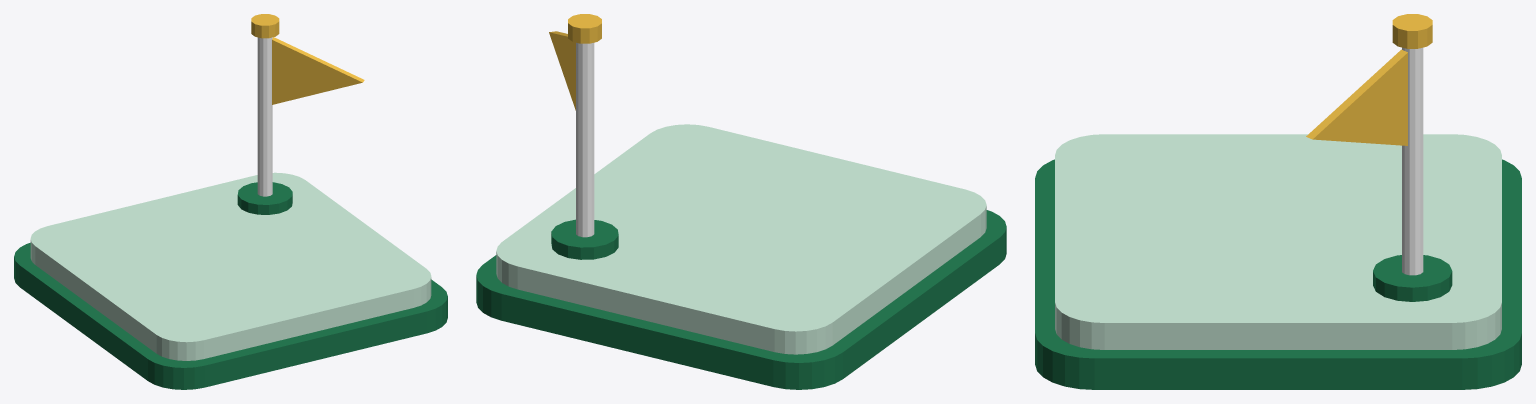
Rendered from tile_start.glb.
3 renders of one model, left to right at view 1: azimuth 30°, elevation 25°; view 2: azimuth 150°, elevation 25°; view 3: azimuth 270°, elevation 25°, orthographic. The views are drawn at different scales.
Visible parts, largest first — view 1: base, plinth, prop_flag, prop_pole, prop_foot, prop_pole_cap; view 2: base, plinth, prop_pole, prop_foot, prop_flag, prop_pole_cap; view 3: base, plinth, prop_flag, prop_pole, prop_foot, prop_pole_cap.
Boxes of the visible parts, box(x1,y1,x2,y2) form: base: box(30, 172, 431, 360); plinth: box(14, 242, 447, 389); prop_flag: box(272, 37, 364, 104); prop_pole: box(257, 37, 272, 196); prop_foot: box(237, 182, 292, 214); prop_pole_cap: box(251, 14, 279, 38); base: box(496, 124, 986, 354); plinth: box(476, 210, 1006, 389); prop_pole: box(576, 42, 594, 237); prop_foot: box(551, 219, 618, 259); prop_flag: box(549, 31, 575, 110); prop_pole_cap: box(568, 14, 601, 43); base: box(1055, 134, 1501, 349); plinth: box(1035, 159, 1521, 389); prop_flag: box(1306, 49, 1407, 145); prop_pole: box(1402, 47, 1423, 275); prop_foot: box(1373, 255, 1452, 301); prop_pole_cap: box(1392, 14, 1432, 48).
Size of the model in its own units: 0.98 by 0.714 by 0.98.
